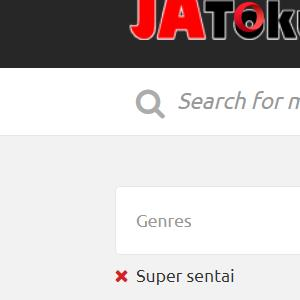opera: (234, 1, 264, 32)
